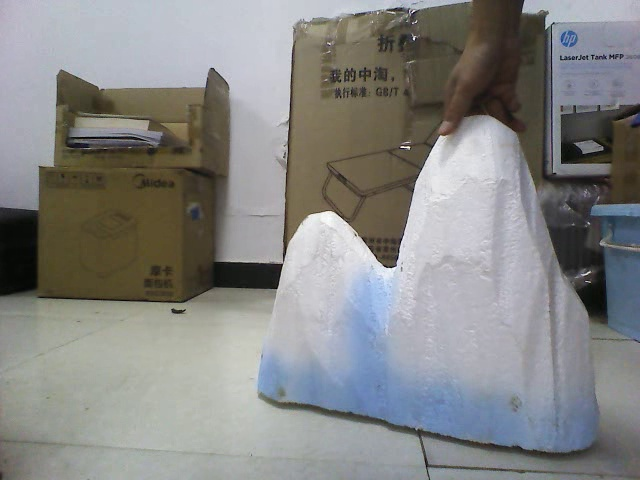iceberg: (255, 111, 602, 453)
